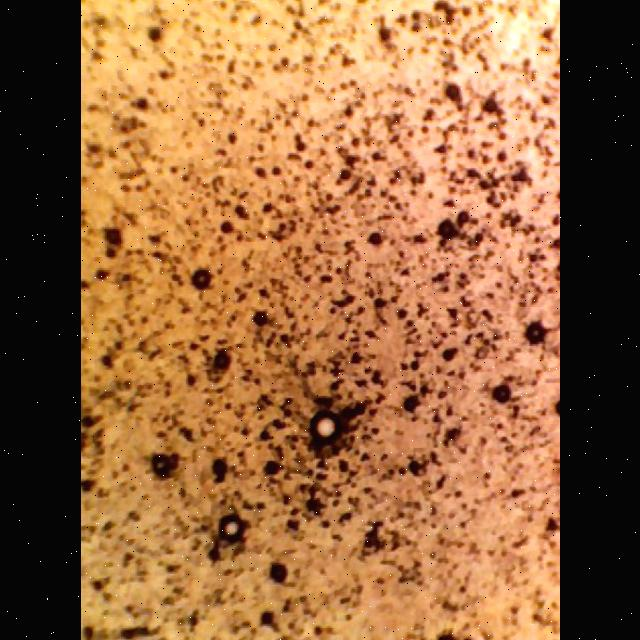microbeads: (309, 409, 345, 447), (216, 512, 247, 546)
